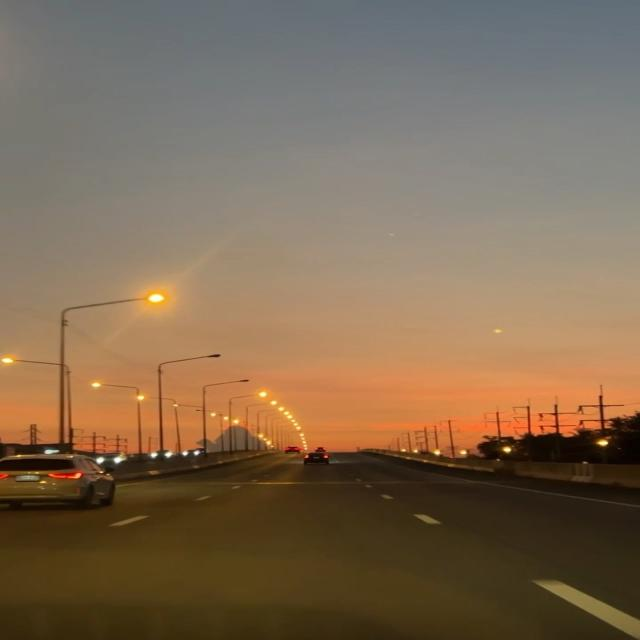Poth-hole: (117, 476, 487, 605)
